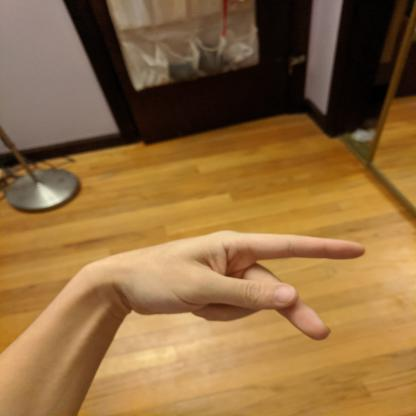P: (128, 226, 369, 344)
